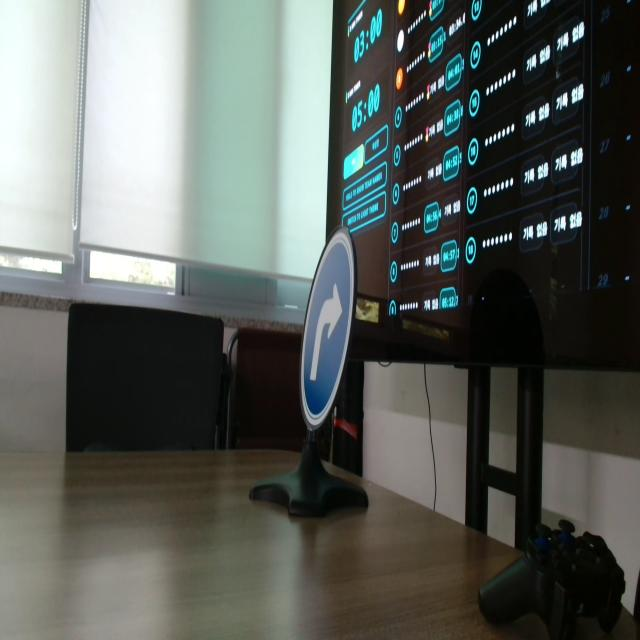right_dierection: (295, 214, 378, 455)
